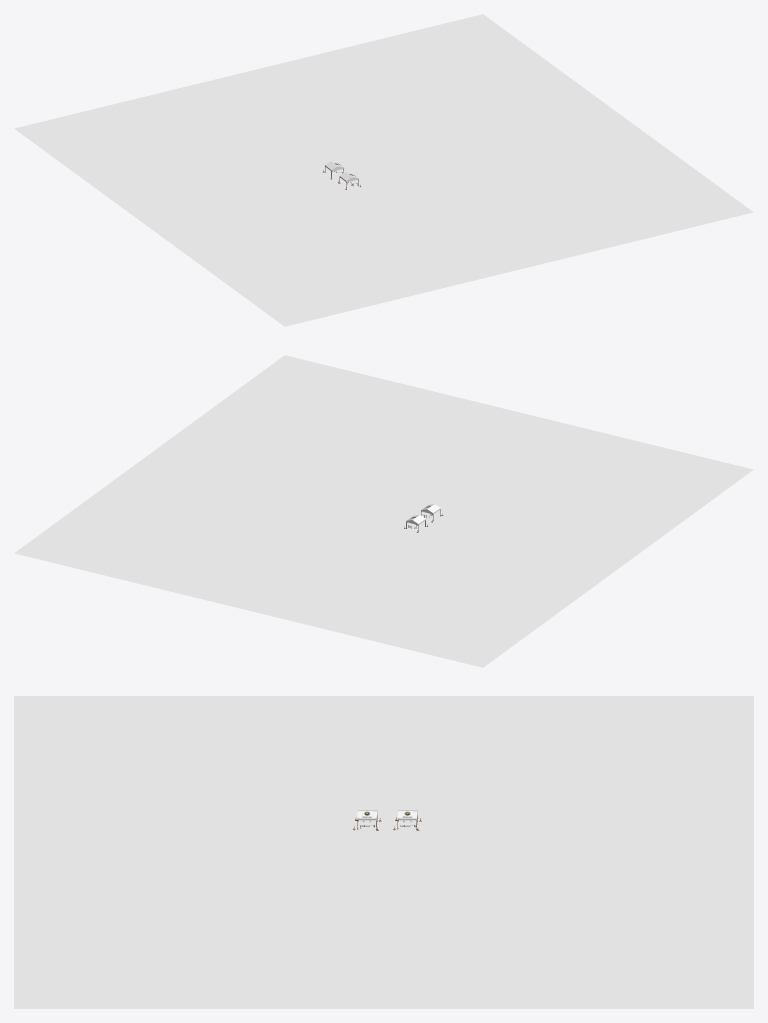
The model's file is GazeboScene2.dae.
The picture shows the model from 3 angles, top to bottom: view 1: azimuth 30°, elevation 25°; view 2: azimuth 150°, elevation 25°; view 3: azimuth 270°, elevation 25°; orthographic projection. The views are drawn at different scales.
Visible parts, largest first — view 1: 平面.001; view 2: 平面.001; view 3: 平面.001.
Part boxes in pixels (x1=…): 平面.001: x1=14, y1=14, x2=753, y2=326; 平面.001: x1=14, y1=355, x2=753, y2=667; 平面.001: x1=14, y1=696, x2=753, y2=1008.
Size of the model in its own units: 188 by 188 by 3.98.
Materials: 1 (1 with a texture image).
